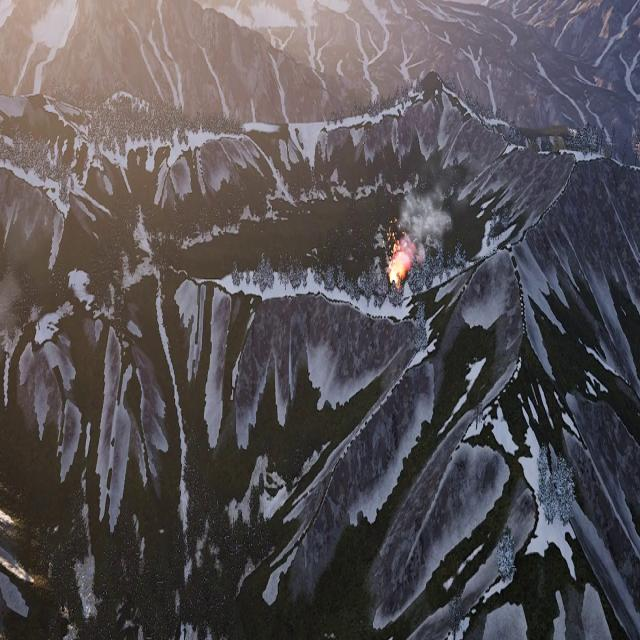fire: (381, 209, 409, 286)
smoke: (397, 184, 454, 263)
